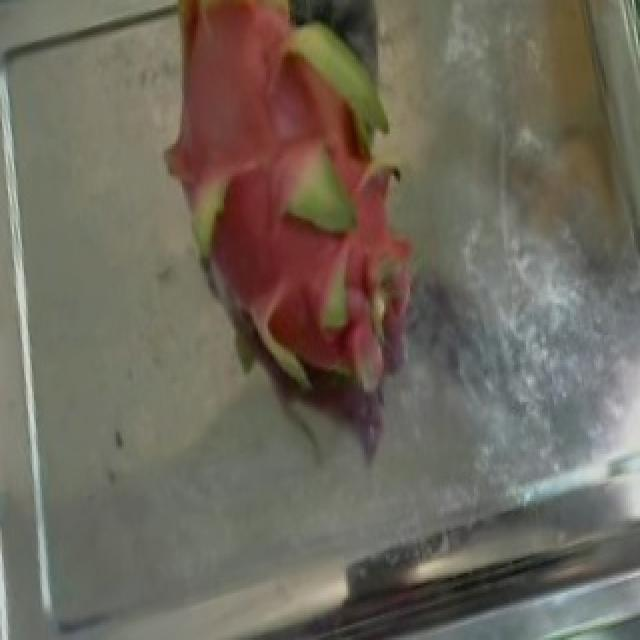fruit: (90, 0, 470, 429)
